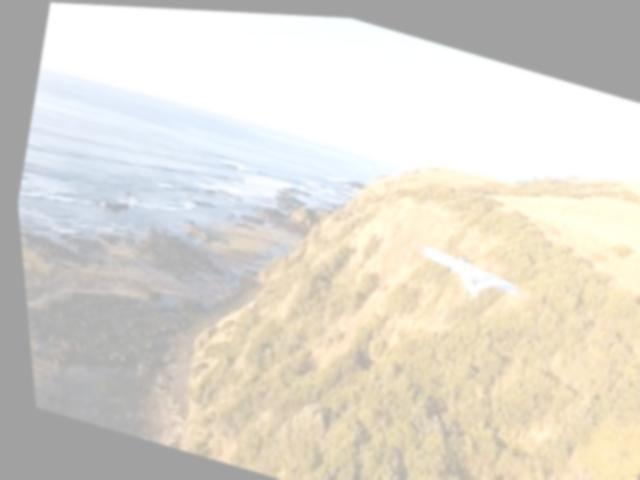uav: (395, 228, 534, 312)
